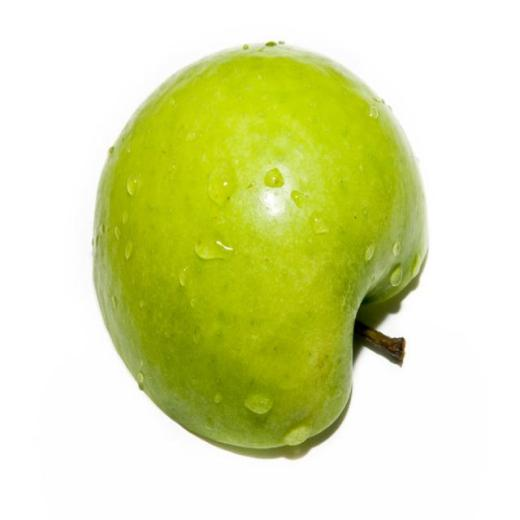Apple: (91, 39, 430, 450)
